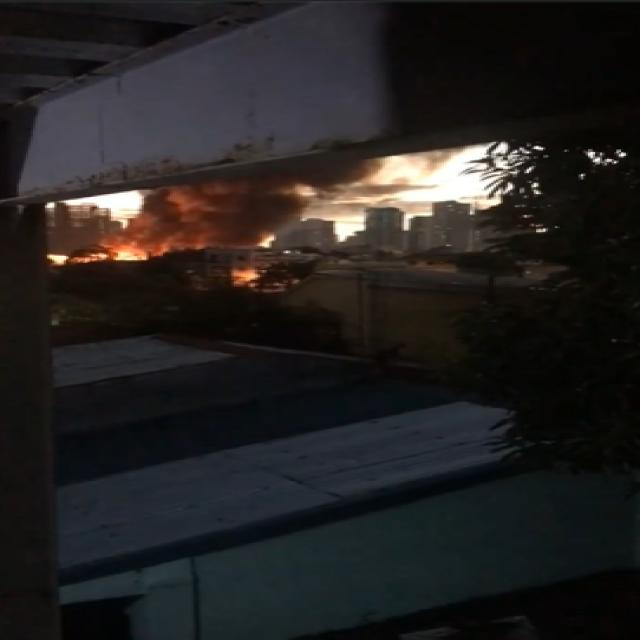Fire: (48, 248, 142, 264), (236, 268, 260, 284)
Smoke: (98, 156, 386, 256)
